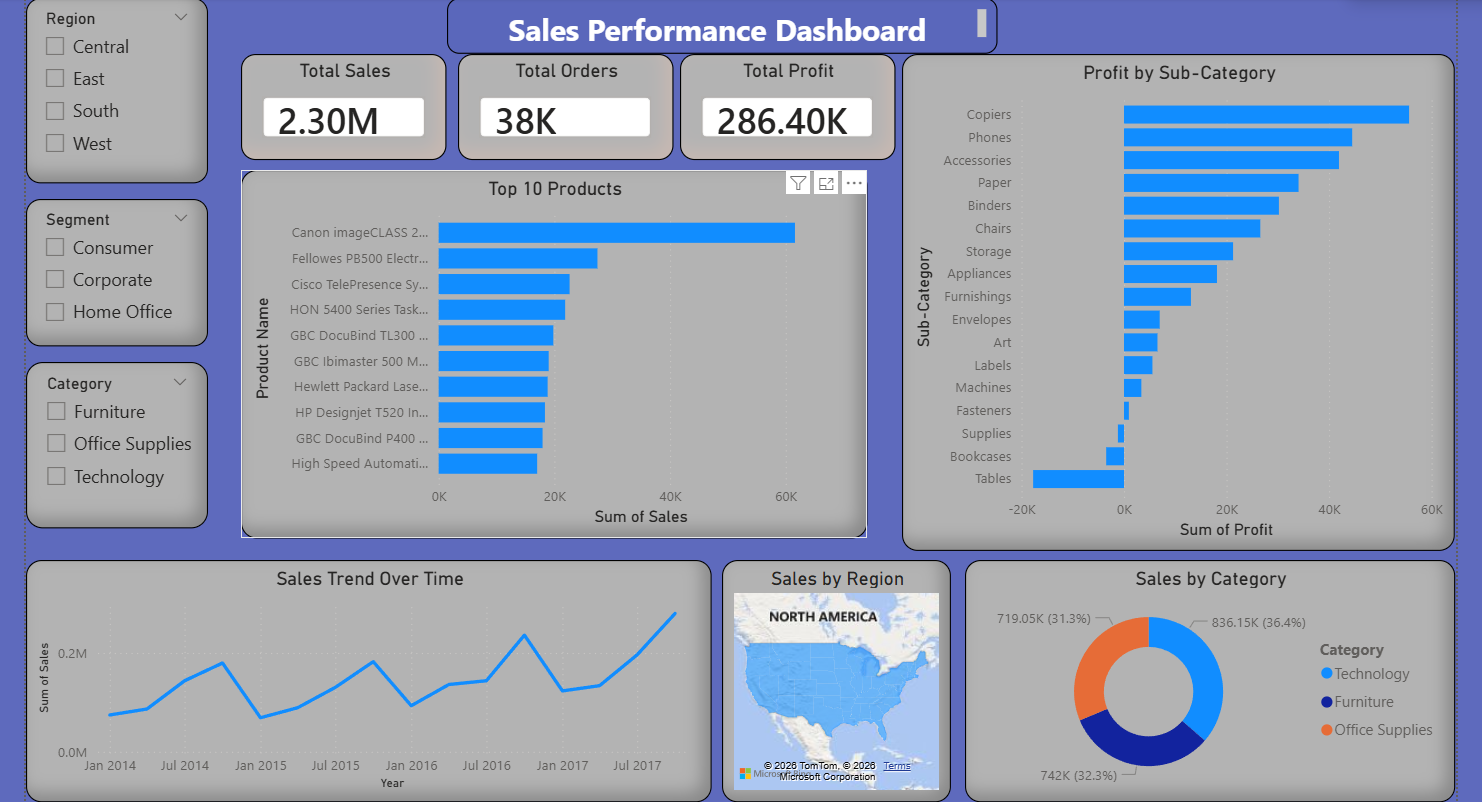

The page's visual inventory and layout, read from the dashboard file:
{"tool":"powerbi","page":{"name":"Page 1","canvas":[1280,720],"ordinal":0},"visuals":[{"type":"textbox","box":[377,0,492.5,50.1],"z":0},{"type":"cardVisual","title":"Total Sales","fields":{"Data":["Sum(Sample - Superstore.Sales)"]},"box":[192.5,50.1,184.5,94.9],"z":1000},{"type":"cardVisual","title":"Total Profit","fields":{"Data":["Sum(Sample - Superstore.Profit)"]},"box":[585.7,50.1,192.5,94.9],"z":2000},{"type":"cardVisual","title":"Total Orders","fields":{"Data":["Sum(Sample - Superstore.Quantity)"]},"box":[386.9,50.1,192.5,94.9],"z":3000},{"type":"lineChart","title":"Sales Trend Over Time","fields":{"Category":["Sample - Superstore.Order Date.Variation.Date Hierarchy.Year","Sample - Superstore.Order Date.Variation.Date Hierarchy.Quarter","Sample - Superstore.Order Date.Variation.Date Hierarchy.Month","Sample - Superstore.Order Date.Variation.Date Hierarchy.Day"],"Y":["Sum(Sample - Superstore.Sales)"]},"box":[0,503.3,614.3,216.7],"z":4000},{"type":"donutChart","title":"Sales by Category","fields":{"Category":["Sample - Superstore.Category"],"Y":["Sum(Sample - Superstore.Sales)"]},"box":[840.9,503.3,438.8,216.7],"z":5000},{"type":"barChart","title":"Profit by Sub-Category","fields":{"Y":["Sum(Sample - Superstore.Profit)"],"Category":["Sample - Superstore.Sub-Category"]},"box":[784.5,50.1,495.2,445.1],"z":6000},{"type":"filledMap","title":"Sales by Region","fields":{"Category":["Sample - Superstore.State","Sample - Superstore.Region"]},"box":[623.3,503.3,205.1,216.7],"z":7000},{"type":"clusteredBarChart","title":"Top 10 Products","fields":{"Category":["Sample - Superstore.Product Name"],"Y":["Sum(Sample - Superstore.Sales)"]},"box":[192.5,154,560.6,329.6],"z":8000},{"type":"slicer","title":"Region","fields":{"Values":["Sample - Superstore.Region"]},"box":[0,0,163,165.7],"z":9000},{"type":"slicer","fields":{"Values":["Sample - Superstore.Category"]},"box":[0,326,163,148.7],"z":10000},{"type":"slicer","fields":{"Values":["Sample - Superstore.Segment"]},"box":[0,180,163,131.6],"z":11000}]}

Visuals, with their boxes in screenshot pixels (x1, y1, x2, y2):
textbox: (438, 0, 979, 55)
"Total Sales" cardVisual: (235, 55, 438, 159)
"Total Profit" cardVisual: (667, 55, 879, 159)
"Total Orders" cardVisual: (449, 55, 660, 159)
"Sales Trend Over Time" lineChart: (23, 553, 699, 792)
"Sales by Category" donutChart: (948, 553, 1430, 792)
"Profit by Sub-Category" barChart: (886, 55, 1430, 544)
"Sales by Region" filledMap: (708, 553, 934, 792)
"Top 10 Products" clusteredBarChart: (235, 169, 851, 532)
"Region" slicer: (23, 0, 202, 182)
slicer - Sample - Superstore.Category: (23, 358, 202, 522)
slicer - Sample - Superstore.Segment: (23, 198, 202, 343)
